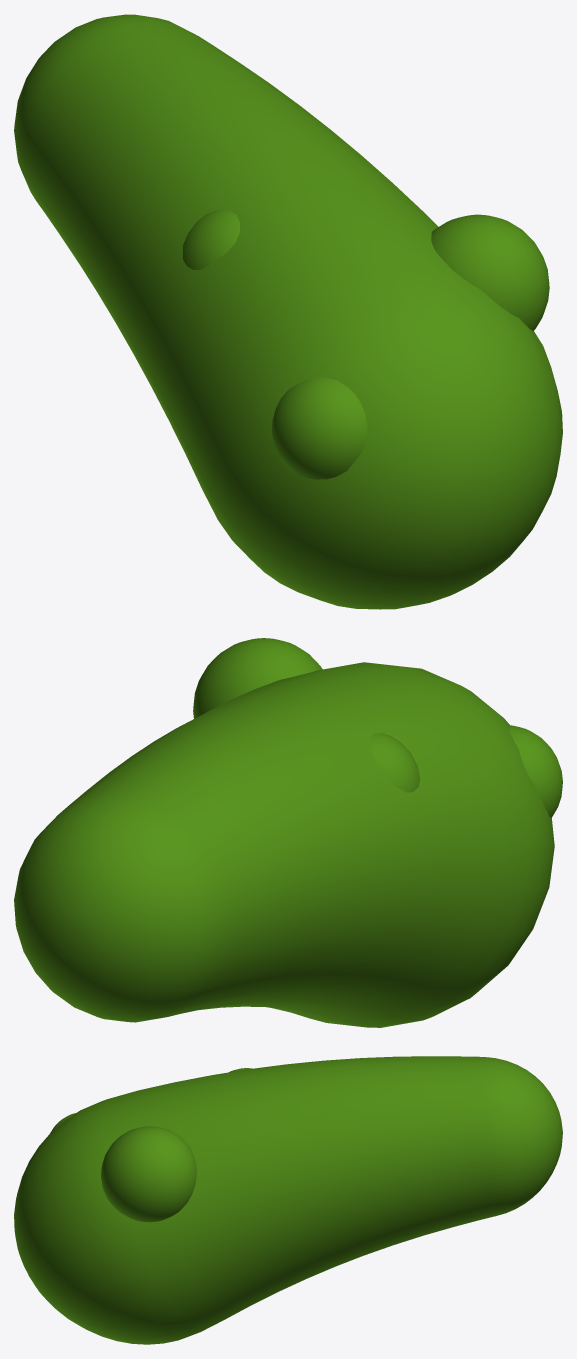
Rendered from nez-S.glb.
3 views of the same model, one above another, from view 1: azimuth 30°, elevation 25°; view 2: azimuth 150°, elevation 25°; view 3: azimuth 270°, elevation 25° (orthographic). The views are drawn at different scales.
Parts seen in each view (by area): view 1: Capsule001, Sphere001, Sphere003, Sphere002; view 2: Capsule001, Sphere001, Sphere003, Sphere002; view 3: Capsule001, Sphere001.
Part boxes in pixels (box(x1,y1,x2,y2)): Capsule001: box(14, 14, 562, 609); Sphere001: box(431, 214, 549, 330); Sphere003: box(272, 377, 367, 479); Sphere002: box(183, 210, 239, 269); Capsule001: box(14, 662, 554, 1027); Sphere001: box(193, 638, 322, 718); Sphere003: box(508, 725, 562, 817); Sphere002: box(369, 733, 419, 792); Capsule001: box(14, 1056, 562, 1344); Sphere001: box(101, 1126, 196, 1222).
Size of the model in its own units: 0.1456 by 0.1668 by 0.3095.
